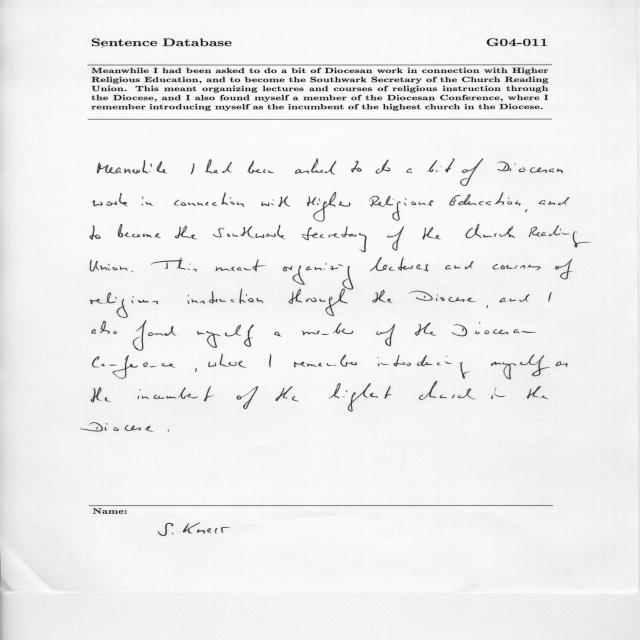word: (378, 355, 470, 379), (92, 355, 175, 379), (283, 263, 353, 290), (90, 292, 158, 318), (329, 383, 392, 411), (302, 227, 367, 253), (288, 289, 348, 316), (369, 196, 433, 221), (491, 355, 550, 380), (197, 324, 254, 348), (529, 226, 590, 248), (307, 192, 351, 222), (133, 321, 176, 351), (452, 322, 536, 336), (188, 289, 264, 304), (138, 386, 213, 401), (419, 381, 475, 400), (174, 192, 244, 207), (449, 192, 521, 206), (213, 225, 285, 239), (97, 160, 167, 174), (370, 257, 428, 272), (294, 355, 357, 368), (497, 161, 563, 173), (409, 291, 476, 302), (466, 224, 515, 238), (80, 423, 154, 432), (295, 159, 336, 175), (151, 258, 197, 272), (460, 159, 483, 186), (215, 259, 266, 271), (302, 323, 353, 335), (118, 224, 161, 238), (208, 354, 246, 368), (237, 386, 258, 409), (90, 260, 128, 272), (93, 193, 127, 206), (387, 226, 404, 251), (376, 324, 395, 346), (205, 159, 232, 174), (427, 159, 455, 172), (248, 161, 275, 174), (276, 387, 299, 402), (555, 259, 572, 279), (92, 321, 117, 334), (261, 196, 290, 207), (91, 387, 111, 402), (415, 322, 436, 336), (493, 264, 541, 270), (175, 226, 197, 239), (527, 386, 548, 399), (445, 261, 474, 270), (372, 290, 392, 303), (422, 227, 441, 240), (539, 197, 569, 205), (500, 294, 530, 302), (376, 159, 391, 174), (90, 225, 101, 240), (491, 388, 506, 399), (351, 161, 362, 173), (142, 197, 153, 206), (555, 361, 568, 367), (191, 163, 195, 174), (548, 292, 552, 302), (274, 332, 281, 337), (406, 168, 412, 173), (270, 354, 272, 368), (195, 368, 197, 372), (525, 209, 527, 212), (487, 305, 489, 308), (168, 430, 170, 432), (131, 271, 133, 272)
